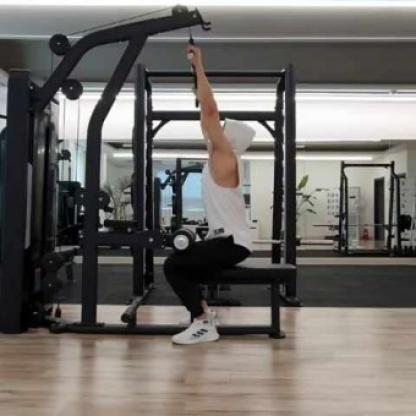Lat Pull Down: (0, 0, 308, 366)
